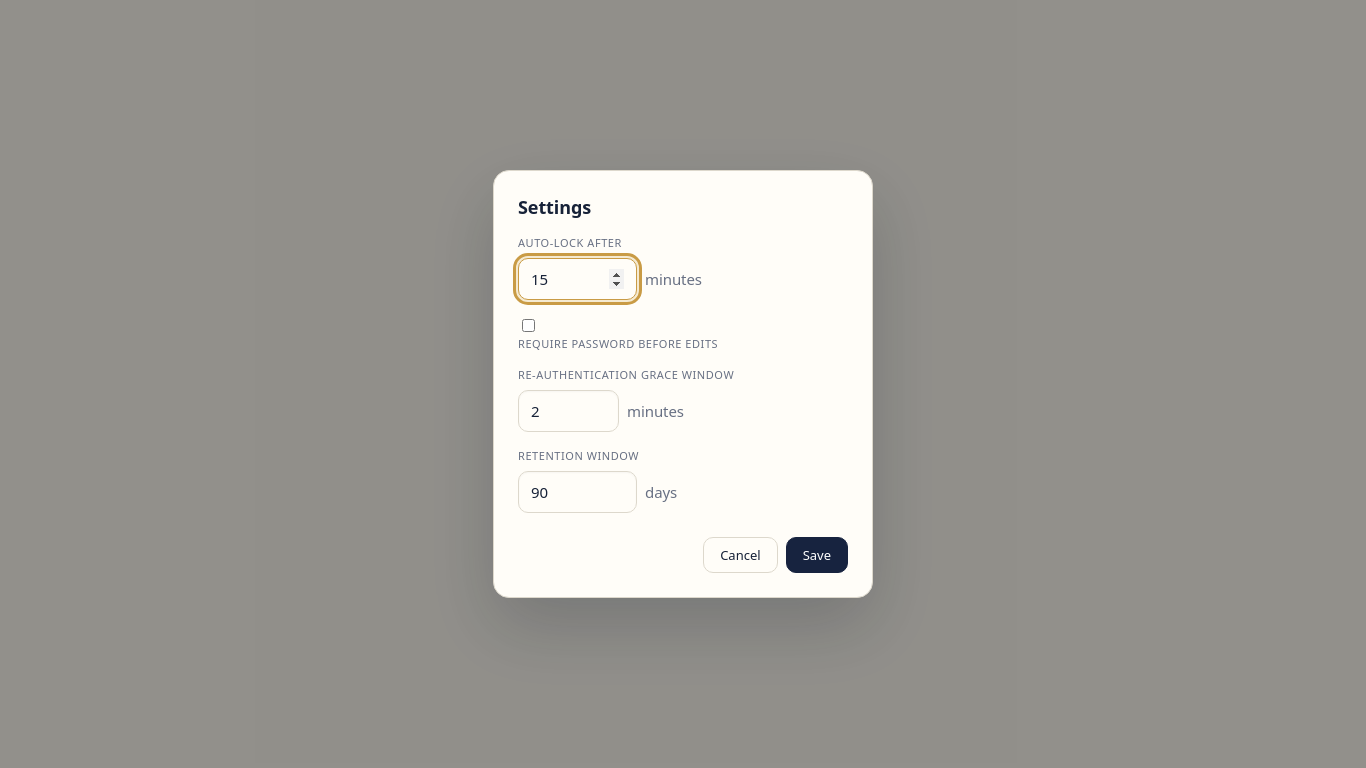
Test: SettingsDialog.svelte — IPC error path › rejected IPC renders the typed error via userMessageFor
Replace the text in the number field labelled "Auto-lock after minutes" with "5" at (578, 279), box [518,258,637,300]
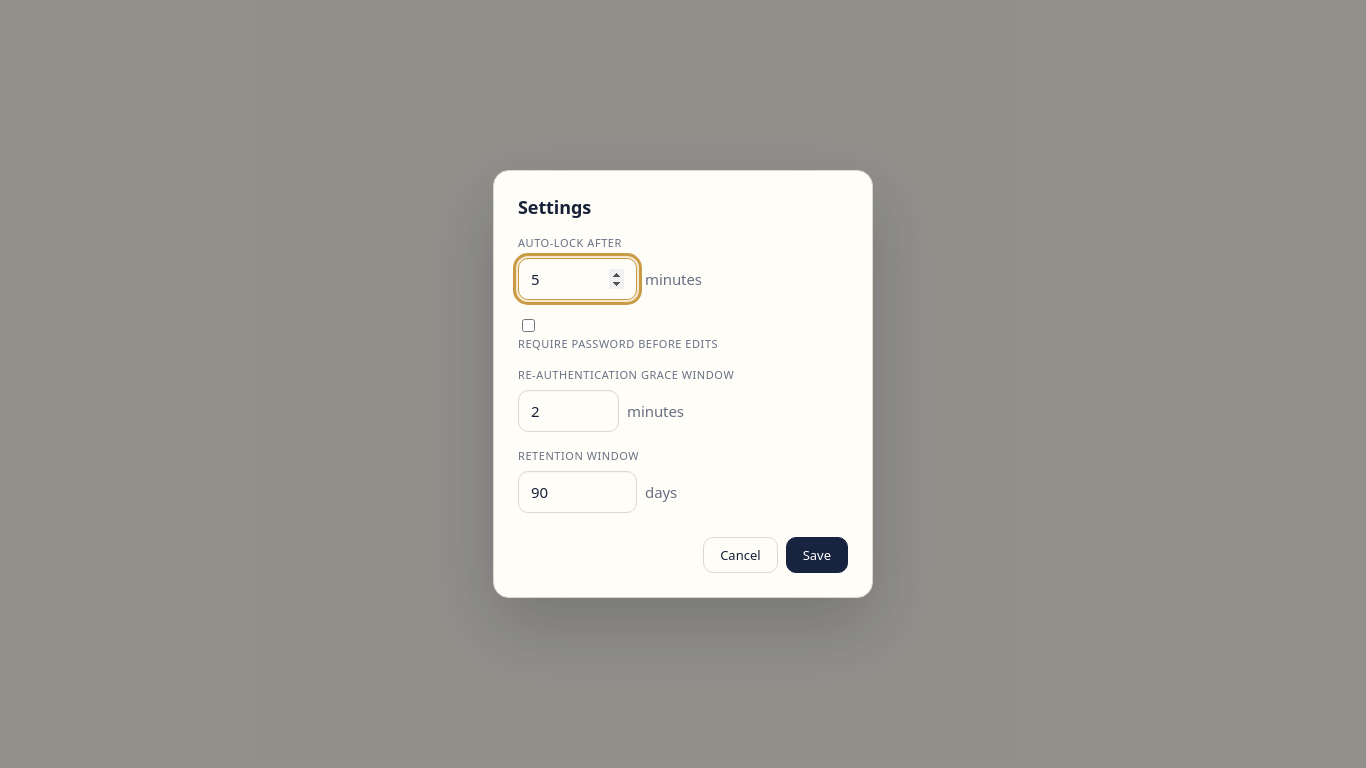
Click the button "Save" at (817, 555), box [786,537,848,573]
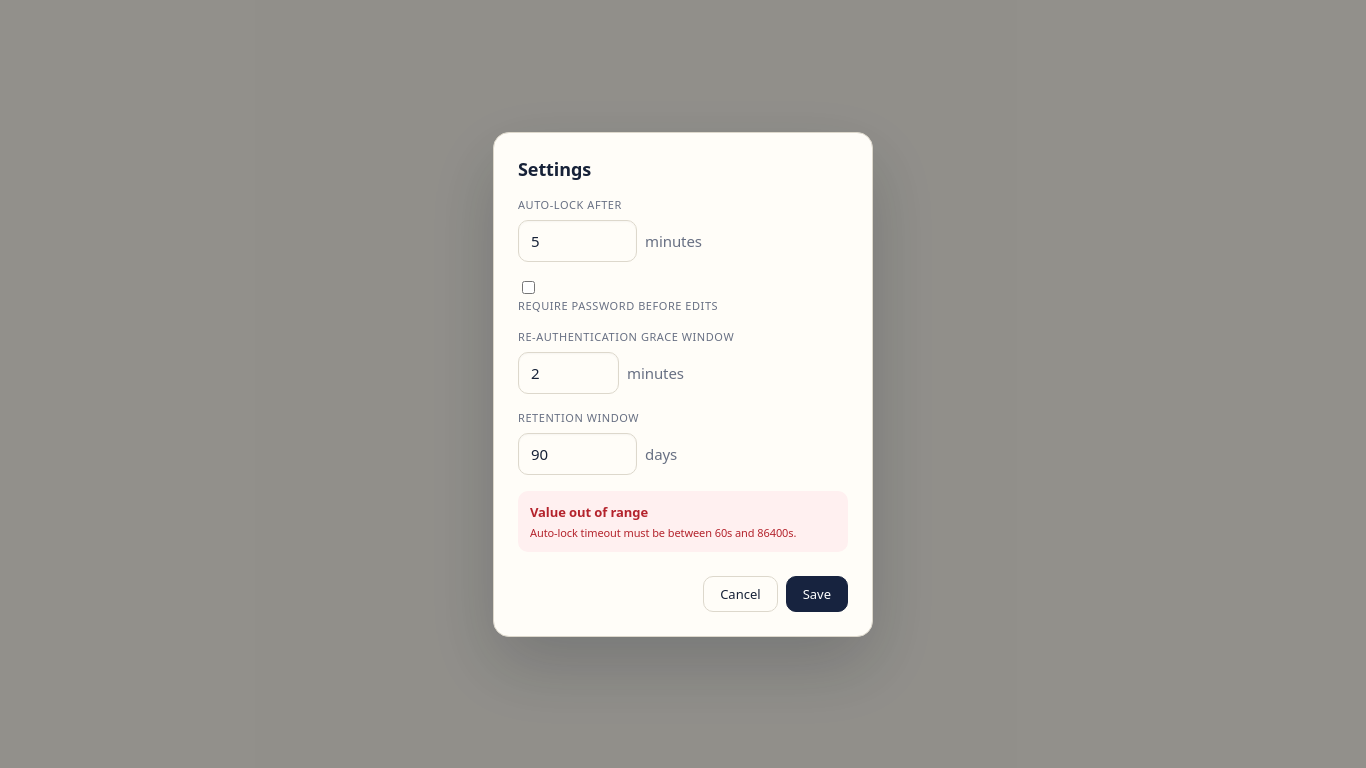
Expected: the text "Value out of range" is shown, [530,502,648,520]
